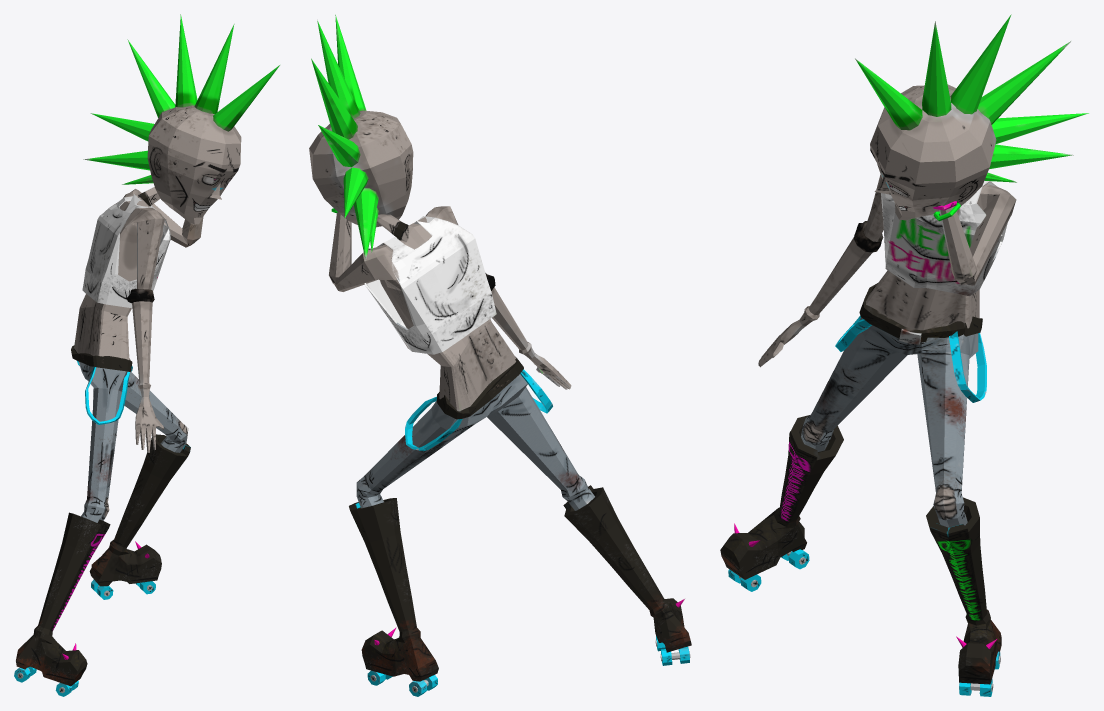
The model's file is punkAnimation_000049.obj.
3 views of the same model, side by side, from view 1: azimuth 30°, elevation 25°; view 2: azimuth 150°, elevation 25°; view 3: azimuth 270°, elevation 25° (orthographic). The views are drawn at different scales.
Parts seen in each view (by area): view 1: Cube.004_Cube.003; view 2: Cube.004_Cube.003; view 3: Cube.004_Cube.003.
Part boxes in pixels (bbox=[...]): Cube.004_Cube.003: bbox=[14, 14, 279, 696]; Cube.004_Cube.003: bbox=[309, 14, 691, 696]; Cube.004_Cube.003: bbox=[720, 14, 1088, 696].
Bounding box in the file's own units: 3.64 × 6.69 × 3.11.
